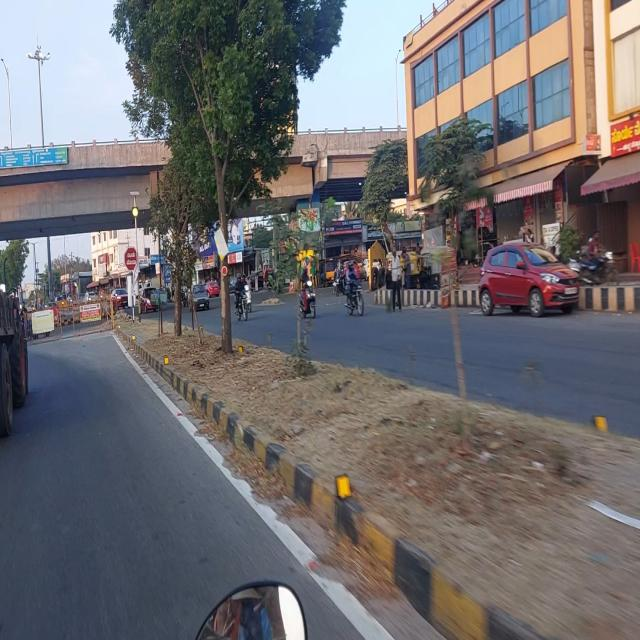bien_cam: (123, 244, 139, 270)
